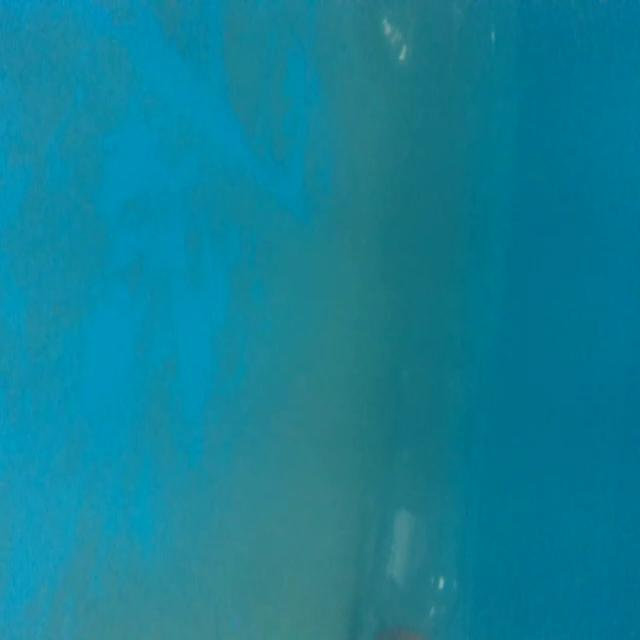plastic bottle: (344, 345, 503, 640)
